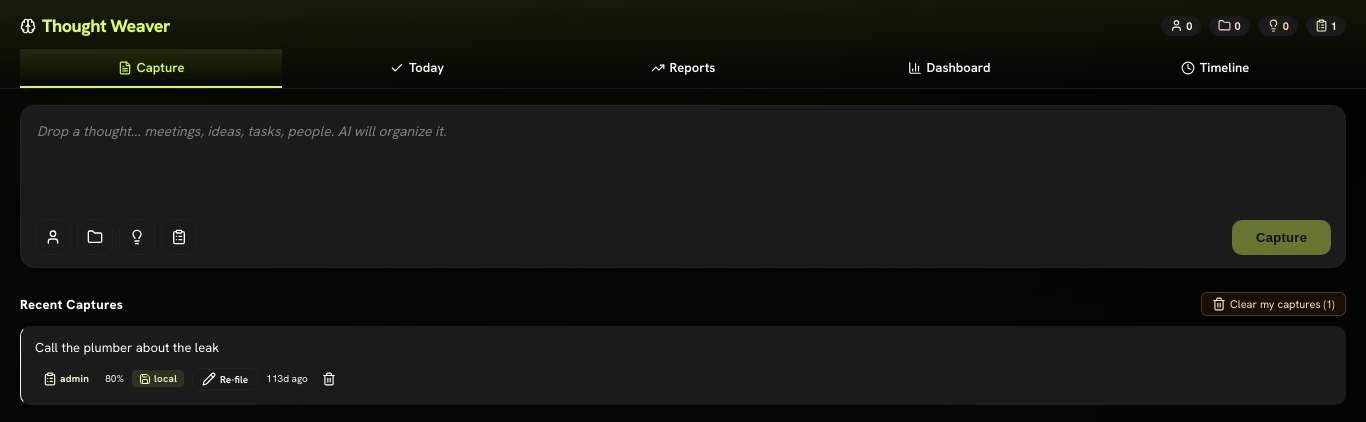
Test: ThoughtWeaver Phase 3 safety UX (D6, D9) › shows a visible sync-result message instead of only logging
Expected: the text "Call the plumber about the leak" is shown, [35, 339, 219, 356]
Click the button "Today".
click(417, 68)  # box [286, 49, 548, 88]
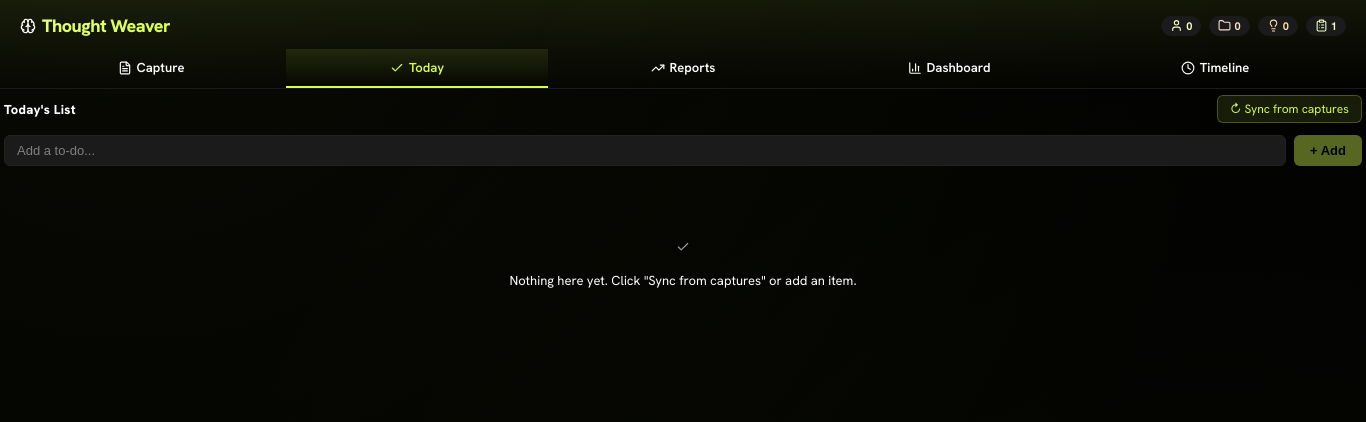
Click the button titled "Pull actionable items from your captures".
click(1290, 109)  # box [1217, 95, 1362, 123]
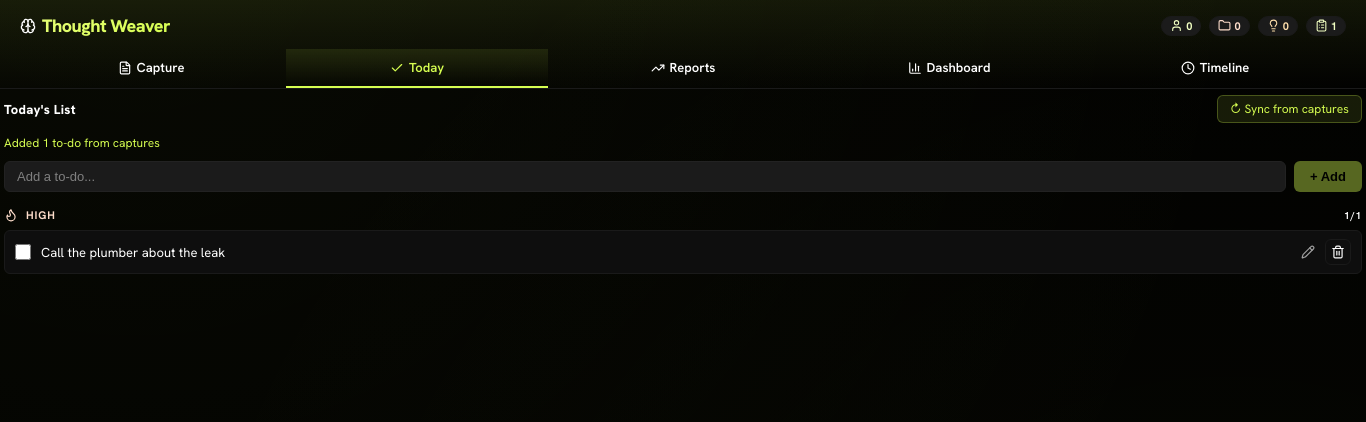
Expected: the text "Added 1 to-do from captures" is shown, [4, 135, 160, 151]
# Second click: nothing new to add.
Click the button titled "Pull actionable items from your captures".
click(1290, 109)  # box [1217, 95, 1362, 123]
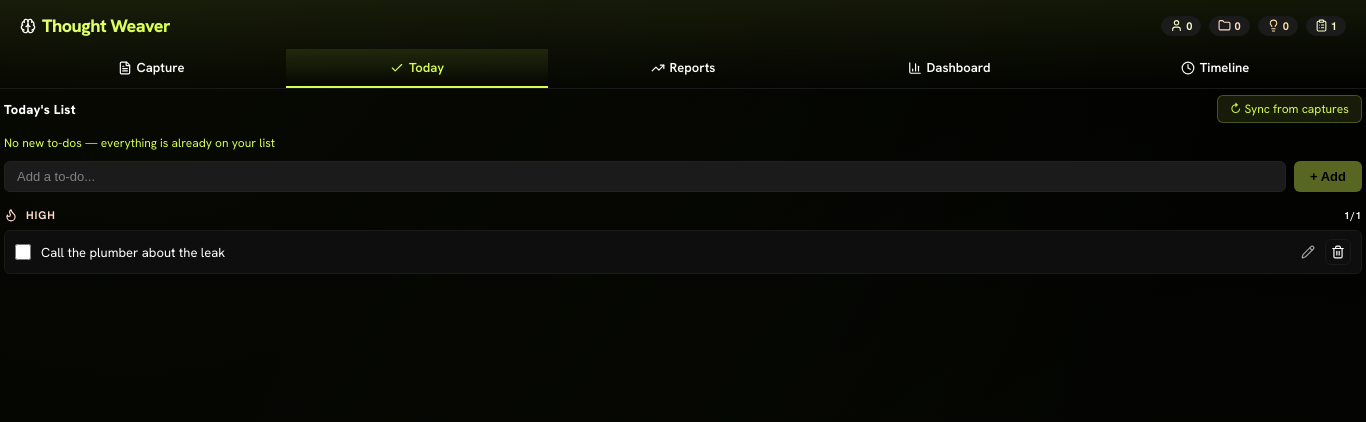
Expected: the text "No new to-dos — everything is already on your list" is shown, [4, 135, 275, 151]
